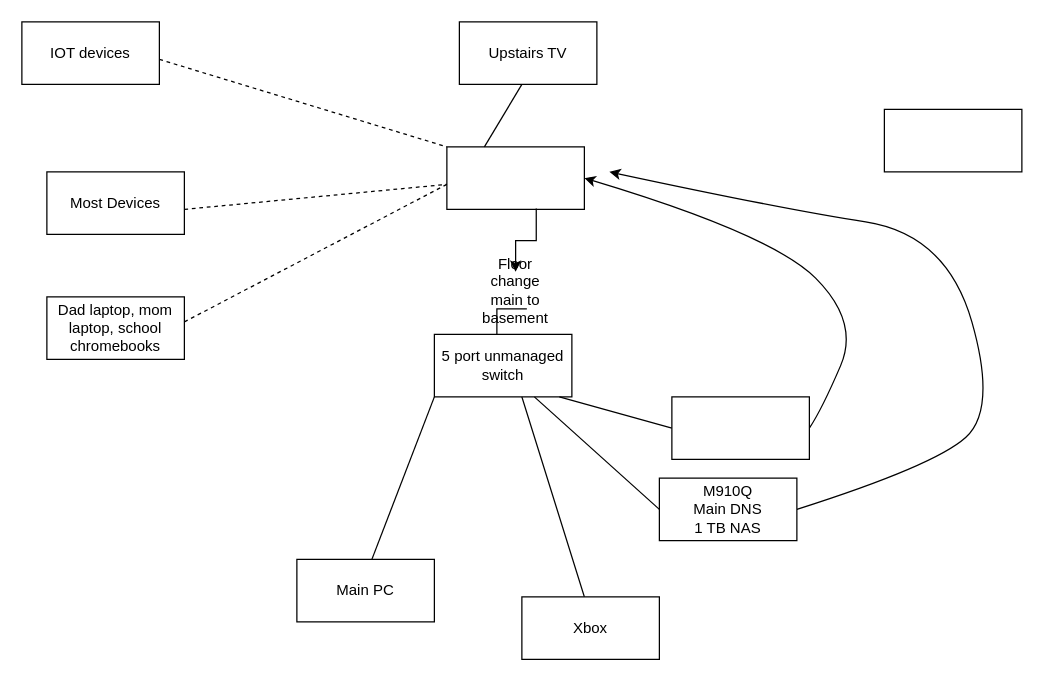
Some shapes in this 1044 by 681 pixel diagram are drawn without their labels. Each missing label, with the box of its shape:
Object: (883, 108, 1022, 172)
Raspberry Pi Backup DNS: (671, 396, 809, 459)
Router: (446, 146, 584, 209)
